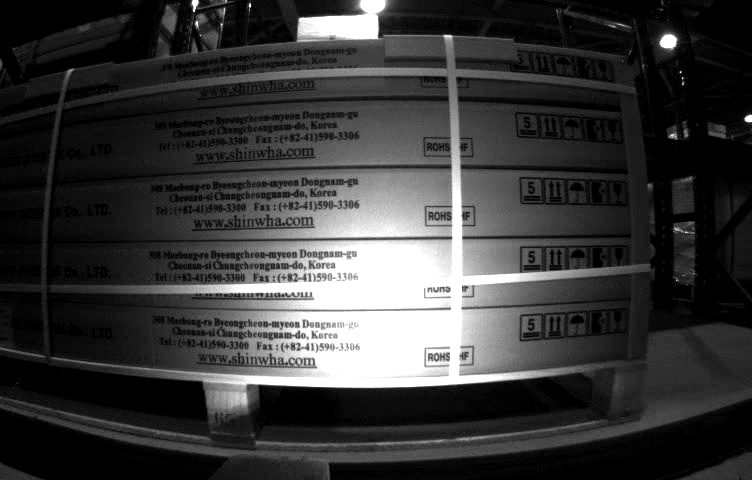True Barcode: (1, 300, 11, 347)
